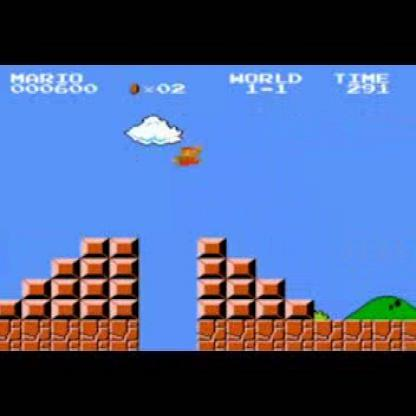Hoyo: (134, 321, 201, 350)
